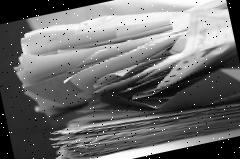paper: (45, 79, 240, 159), (13, 18, 191, 88), (57, 29, 198, 108), (17, 0, 186, 59), (49, 120, 240, 159)
